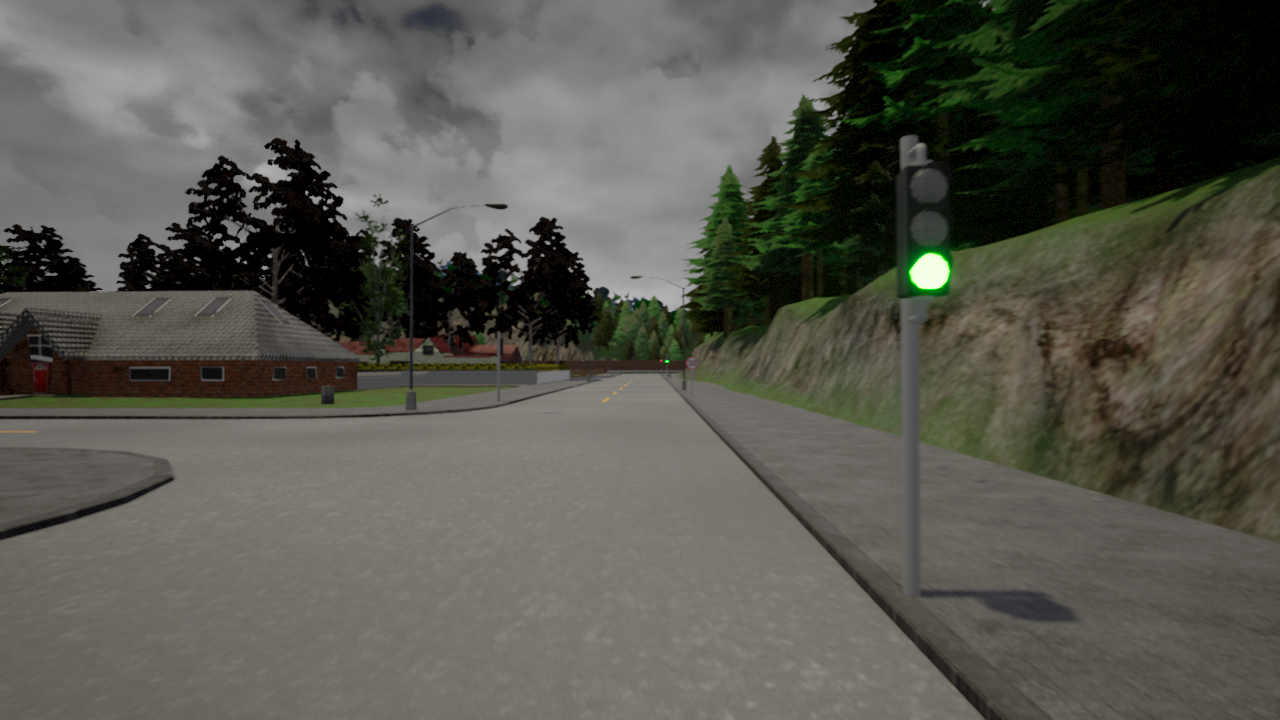green: (894, 161, 956, 296)
